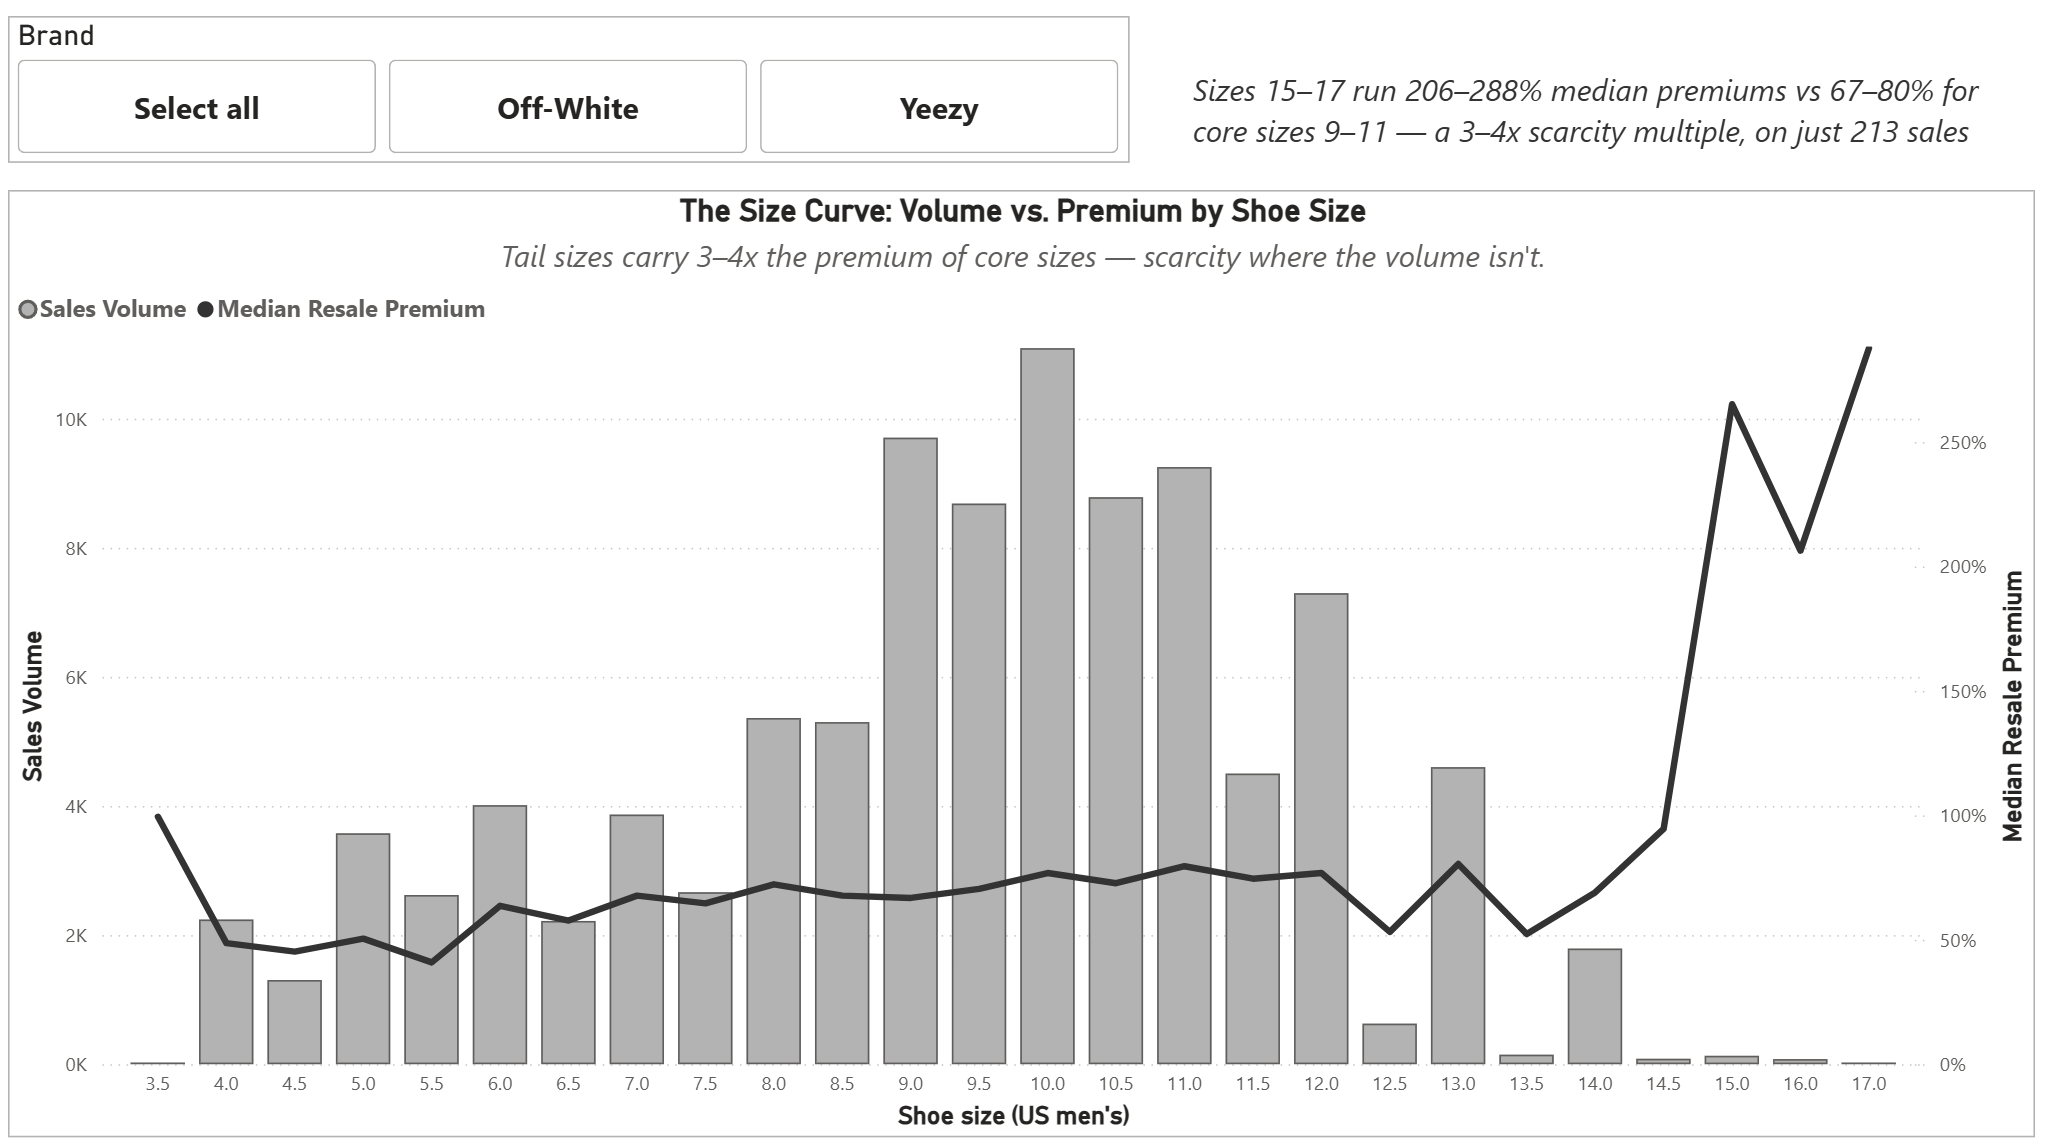

The dashboard page shown, as its layout file describes it:
{"tool":"powerbi","page":{"name":"Size Curve","canvas":[1280,720],"ordinal":2},"visuals":[{"type":"lineClusteredColumnComboChart","title":"The Size Curve: Volume vs. Premium by Shoe Size","fields":{"Category":["fact_sales.shoe_size"],"Y":["fact_sales.Sales Volume"],"Y2":["fact_sales.Median Resale Premium %"]},"box":[9.3,126,1256,587.3],"z":0},{"type":"advancedSlicerVisual","title":"Brand","fields":{"Values":["dim_sneaker.brand"]},"box":[9.3,18,694.7,91.3],"z":1000},{"type":"textbox","box":[828,18,437.3,91.3],"z":2000}]}

Visuals, with their boxes in screenshot pixels (x1, y1, x2, y2), scaled from the page's 1280x720 canvas onto the 2045x1142 screenshot:
"The Size Curve: Volume vs. Premium by Shoe Size" lineClusteredColumnComboChart: left=15, top=200, right=2022, bottom=1131
"Brand" advancedSlicerVisual: left=15, top=29, right=1125, bottom=173
textbox: left=1323, top=29, right=2022, bottom=173
